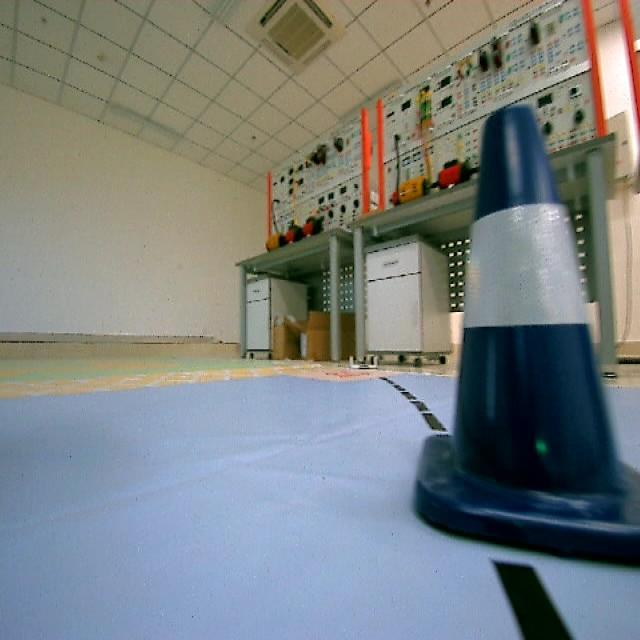obstacle: (408, 100, 640, 578)
